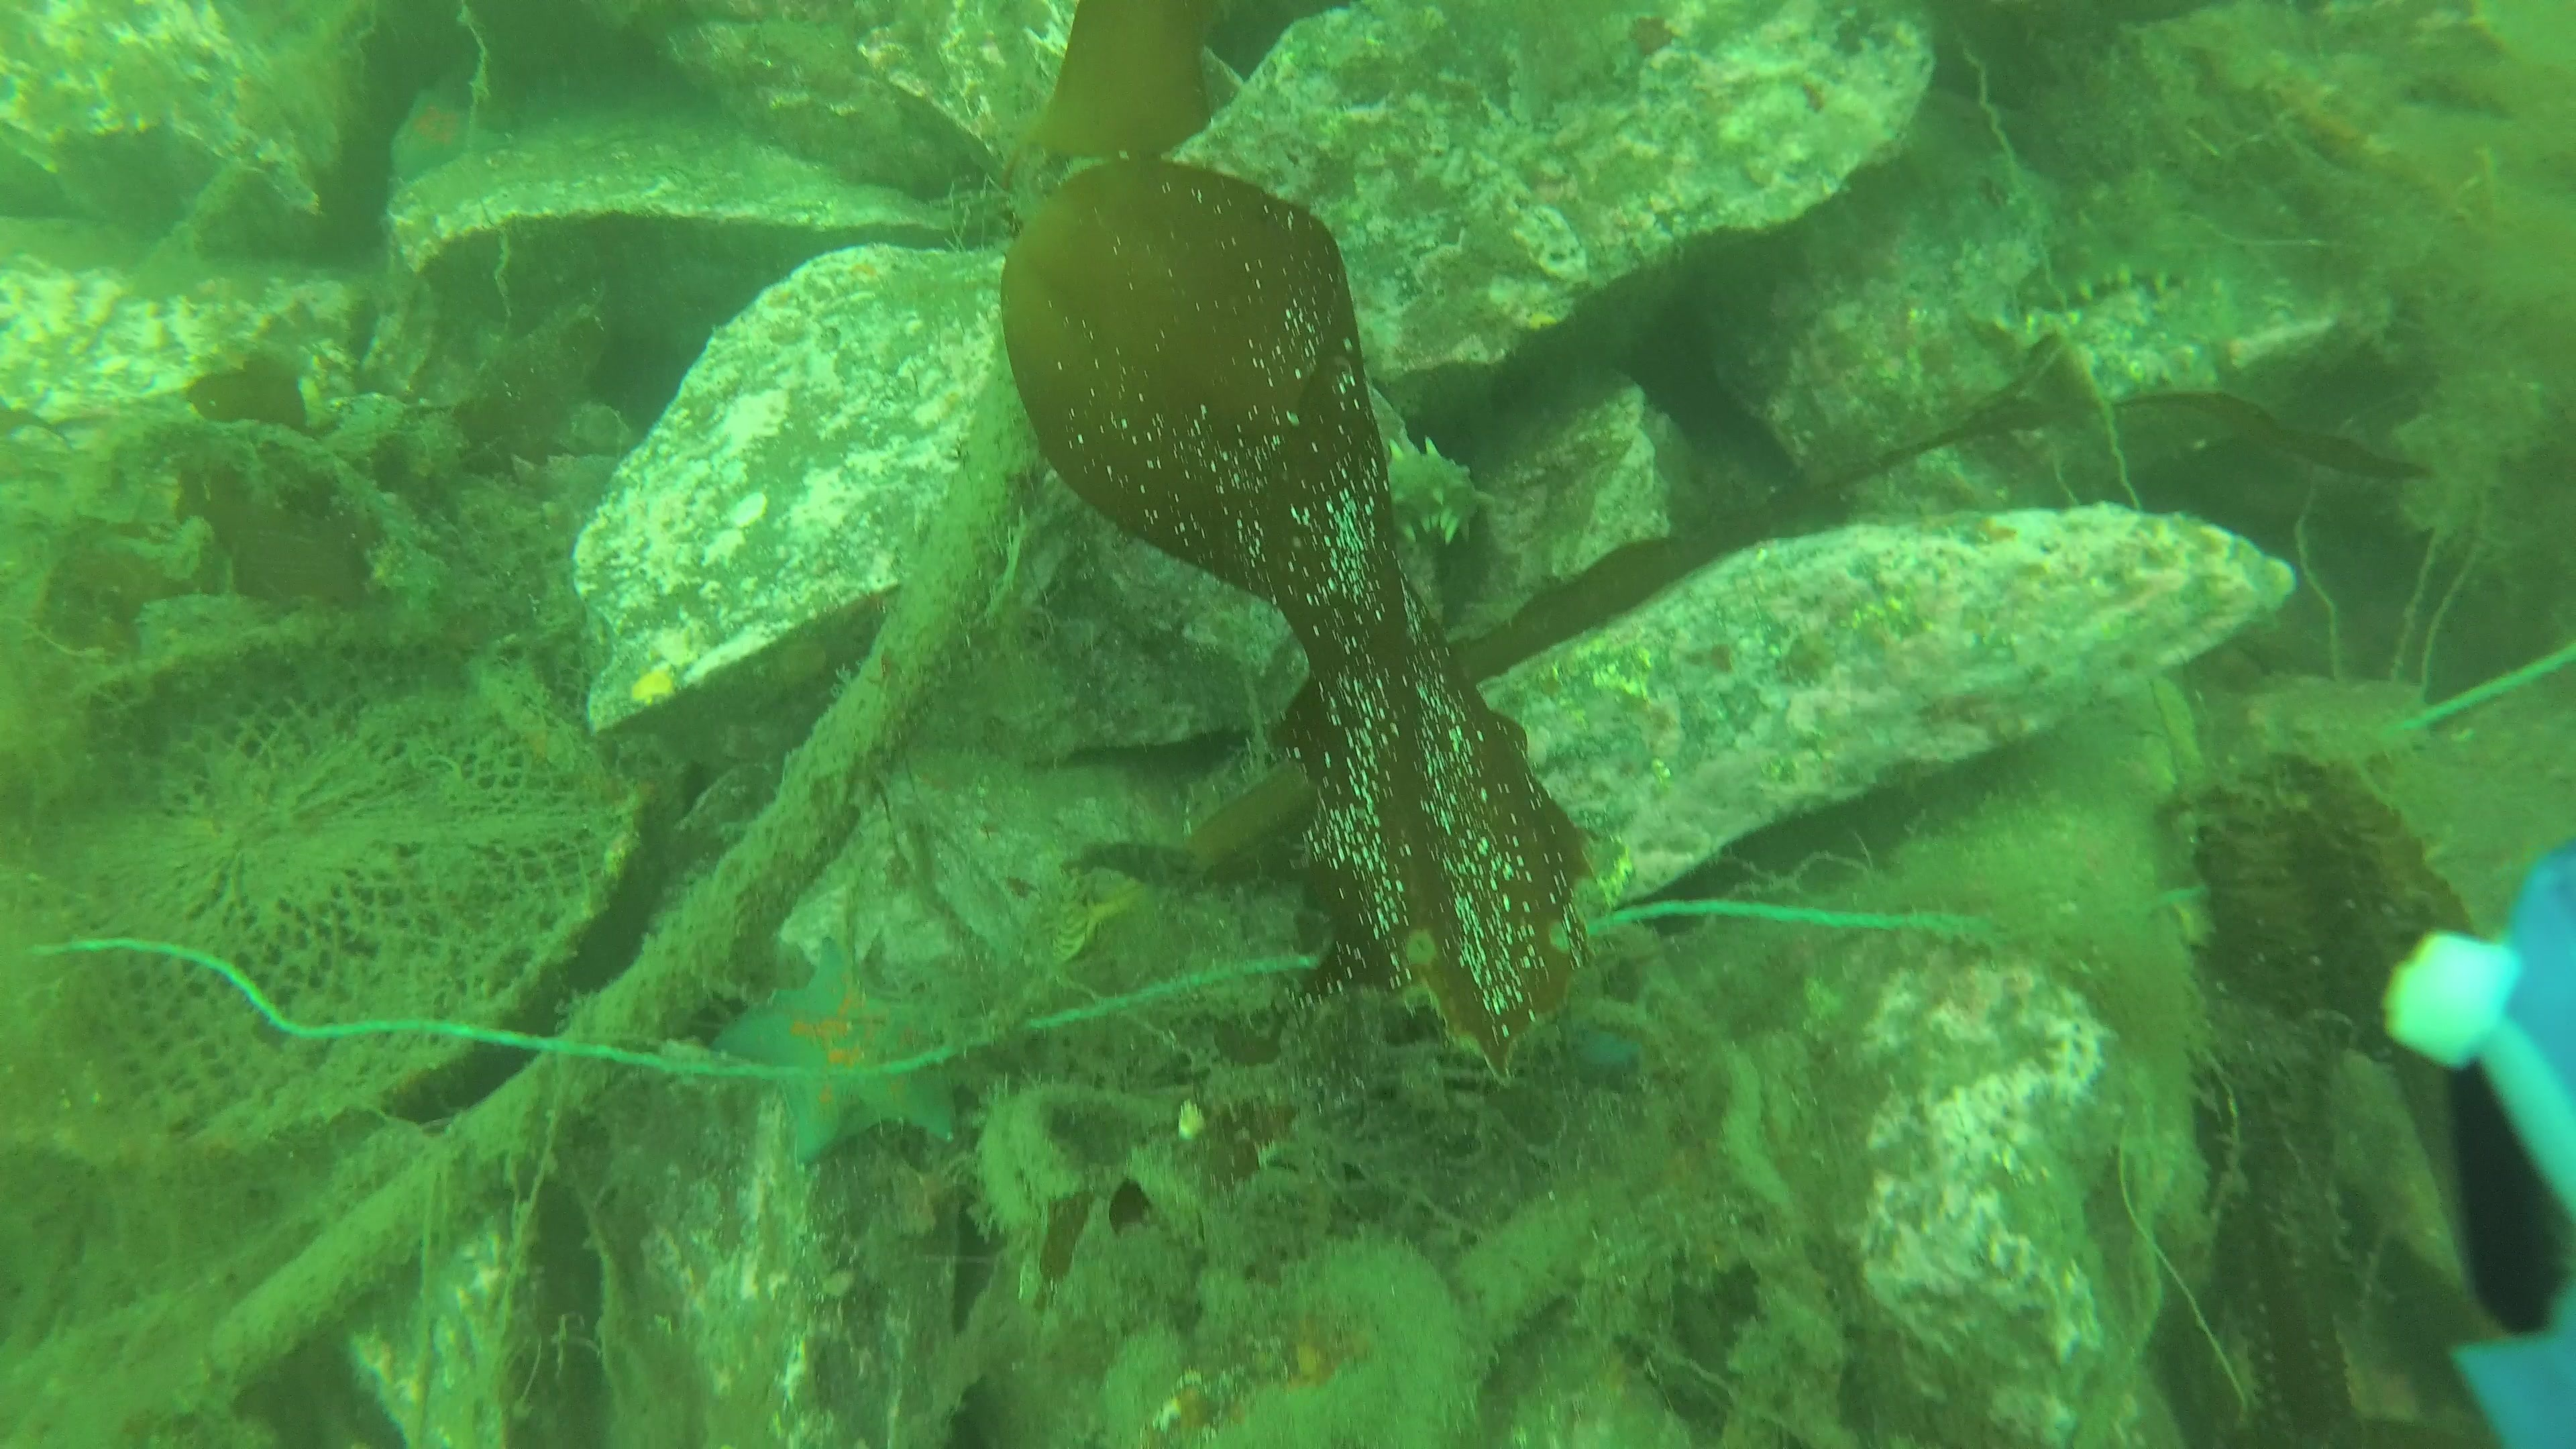holothurian: (2006, 230, 2213, 320), (1375, 428, 1476, 556)
starfish: (699, 934, 971, 1169), (380, 76, 494, 182)
